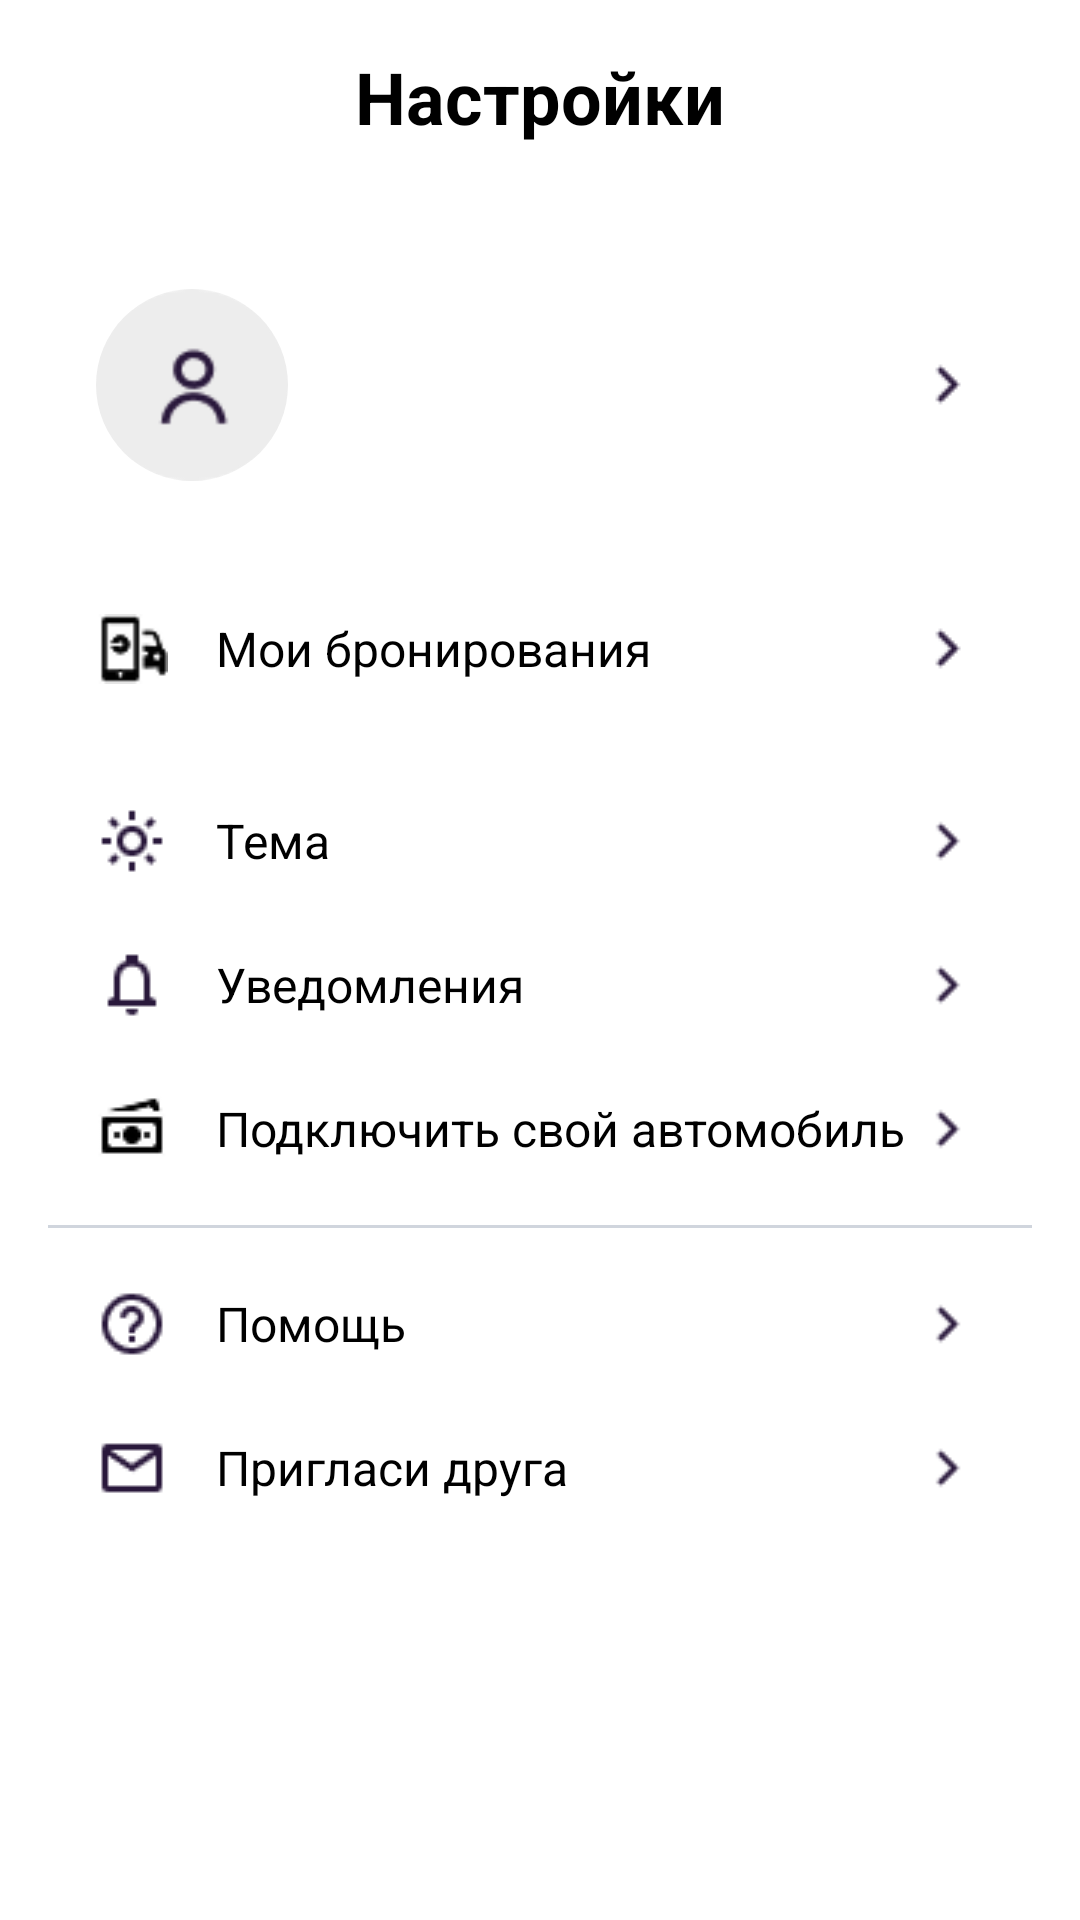

Screen size 1080×1920. Icon name, then its box in pixels as Rect(x1, y1, x2, y2):
Стрекла вправо: Rect(935, 365, 961, 404), Rect(935, 629, 961, 668), Rect(936, 822, 960, 860), Rect(936, 966, 960, 1004), Rect(936, 1110, 960, 1148), Rect(936, 1305, 960, 1343), Rect(936, 1449, 960, 1487)
Фото профиля: Rect(96, 289, 288, 481)
